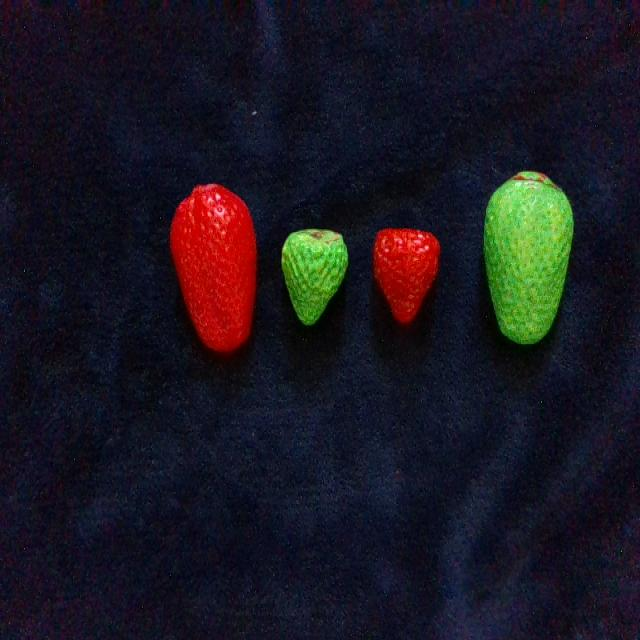chica_roja: (374, 228, 438, 323)
grande_roja: (171, 185, 256, 351)
verde: (484, 171, 573, 341), (282, 229, 347, 324)
